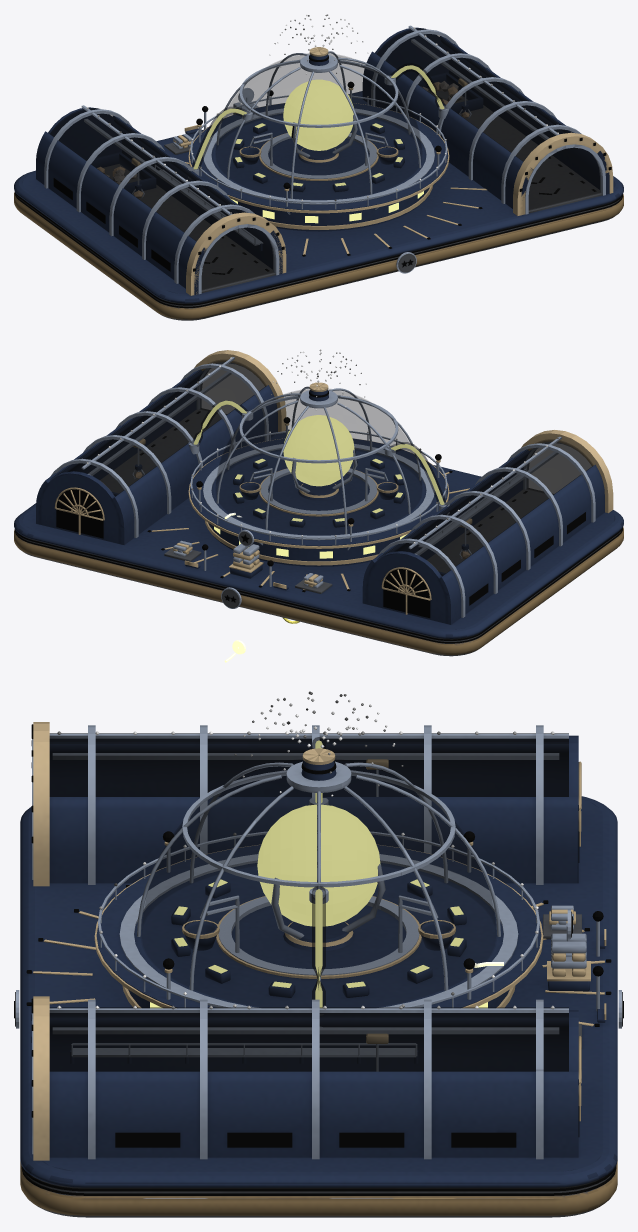
File: SM_Evo_RefineryCombine.fbx
The picture shows the model from 3 angles, top to bottom: view 1: azimuth 30°, elevation 25°; view 2: azimuth 150°, elevation 25°; view 3: azimuth 270°, elevation 25°; orthographic projection. The views are drawn at different scales.
Visible parts, largest first — view 1: SMN_Evo_RefineryCombine, Emblem_Fx_RefineryCombine, SpinDish_RefineryCombineLadles; view 2: SMN_Evo_RefineryCombine, Emblem_Fx_RefineryCombine, SpinDish_RefineryCombineLadles; view 3: SMN_Evo_RefineryCombine, Emblem_Fx_RefineryCombine, SpinDish_RefineryCombineLadles.
Boxes of the visible parts, box(x1,y1,x2,y2) form: SMN_Evo_RefineryCombine: box(14, 25, 623, 320); Emblem_Fx_RefineryCombine: box(15, 14, 622, 308); SpinDish_RefineryCombineLadles: box(239, 132, 398, 180); SMN_Evo_RefineryCombine: box(14, 350, 623, 656); Emblem_Fx_RefineryCombine: box(15, 349, 622, 643); SpinDish_RefineryCombineLadles: box(239, 468, 398, 516); SMN_Evo_RefineryCombine: box(15, 722, 622, 1217); Emblem_Fx_RefineryCombine: box(14, 691, 623, 1195); SpinDish_RefineryCombineLadles: box(182, 895, 455, 978).
Bounding box in the file's own units: 2.84 × 1.59 × 1.88.
